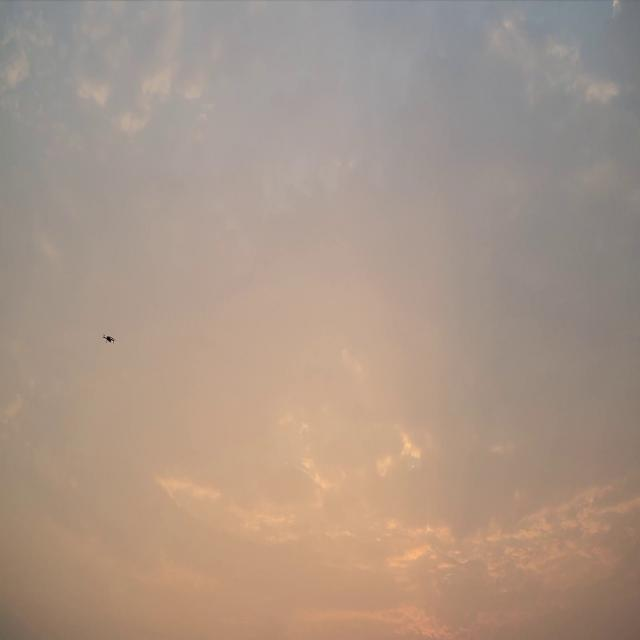drone: (103, 334, 116, 344)
